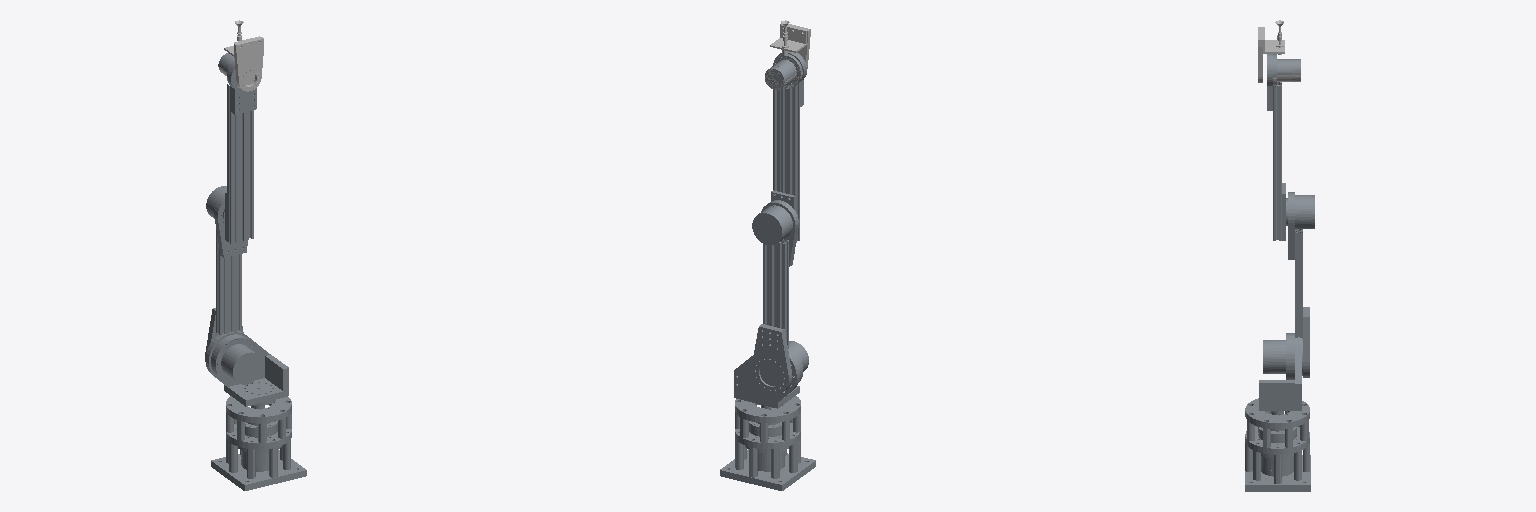
URDF robot description (Серебристый_робот_сборка_февраль_2026_Z_вверх_4-Оси_Петров.SLDAS):
<?xml version="1.0" encoding="utf-8"?>
<robot
  name="Серебристый_робот_сборка_февраль_2026_Z_вверх_4-Оси_Петров.SLDASM">
  <link
    name="base_link">
    <visual>
      <origin
        xyz="0 0 0"
        rpy="0 0 0" />
      <geometry>
        <mesh
          filename="meshes_4/base_link.STL" />
      </geometry>
      <material
        name="">
        <color
          rgba="0.56863 0.59608 0.62353 1" />
      </material>
    </visual>
  </link>
  <link
    name="Axis_1_Link">
    <visual>
      <origin
        xyz="0 0 0"
        rpy="0 0 0" />
      <geometry>
        <mesh
          filename="meshes_4/Axis_1_Link.STL" />
      </geometry>
      <material
        name="">
        <color
          rgba="0.56863 0.59608 0.62353 1" />
      </material>
    </visual>
  </link>
  <joint
    name="Axis_1_Joint"
    type="revolute">
    <origin
      xyz="0 0 0.052"
      rpy="0 0 0" />
    <parent
      link="base_link" />
    <child
      link="Axis_1_Link" />
    <axis
      xyz="0 0 1" />
    <limit
      lower="-3.1415"
      upper="3.1415"
      effort="0"
      velocity="0" />
  </joint>
  <link
    name="Axis_2_Link">
    <visual>
      <origin
        xyz="0 0 0"
        rpy="0 0 0" />
      <geometry>
        <mesh
          filename="meshes_4/Axis_2_Link.STL" />
      </geometry>
      <material
        name="">
        <color
          rgba="0.56863 0.59608 0.62353 1" />
      </material>
    </visual>
  </link>
  <joint
    name="Axis_2_Joint"
    type="revolute">
    <origin
      xyz="-0.049003 -0.0005 0.234"
      rpy="0 0 0" />
    <parent
      link="Axis_1_Link" />
    <child
      link="Axis_2_Link" />
    <axis
      xyz="0 -1 0" />
    <limit
      lower="-0.785398"
      upper="0.785398"
      effort="0"
      velocity="0" />
  </joint>
  <link
    name="Axis_3_Link">
    <visual>
      <origin
        xyz="0 0 0.1"
        rpy="0 0 0" />
      <geometry>
        <mesh
          filename="meshes_4/Axis_3_Link.STL" />
      </geometry>
      <material
        name="">
        <color
          rgba="0.56863 0.59608 0.62353 1" />
      </material>
    </visual>
  </link>
  <joint
    name="Axis_3_Joint"
    type="revolute">
    <origin
      xyz="0.0 0.105 0.372"
      rpy="0 0 0" />
    <parent
      link="Axis_2_Link" />
    <child
      link="Axis_3_Link" />
     <axis
      xyz="0 -1 0" />
    <limit
      lower="-2.3355"
      upper="2.3355"
      effort="0"
      velocity="0" />
  </joint>
  <link
    name="Axis_4_Link">
    <visual>
      <origin
        xyz="0 0 0.055"
        rpy="0 0 0" />
      <geometry>
        <mesh
          filename="meshes_4/Axis_4_Link.STL" />
      </geometry>
      <material
        name="">
        <color
          rgba="0.75294 0.75294 0.75294 1" />
      </material>
    </visual>
  </link>
  <joint
    name="Axis_4_Joint"
    type="revolute">
    <origin
      xyz="0 -0.11325 0.365"
      rpy="0 0 0" />
    <parent
      link="Axis_3_Link" />
    <child
      link="Axis_4_Link" />
    <axis
      xyz="0 -1 0" />
    <limit
      lower="-1.9188"
      upper="1.9188"
      effort="0"
      velocity="0" />
  </joint>
  <joint
    name="fixed_joint"
    type="fixed">
    <origin
      xyz="0 0 0.124"
      rpy="0 0 0" />
    <parent
      link="Axis_4_Link" />
    <child
      link="end_link" />
  </joint>
  <link
    name="end_link">
  </link>
</robot>

--- What the picture shows (computed from the rendered views, not written in the file) ---
Views: 3 orthographic renders of the robot side by side, from view 1: azimuth 30°, elevation 25°; view 2: azimuth 150°, elevation 25°; view 3: azimuth 270°, elevation 25°.
Robot: Серебристый_робот_сборка_февраль_2026_Z_вверх_4-Оси_Петров.SLDAS — 6 links, 5 joints (4 revolute, 1 fixed); root link base_link; default pose: every joint at zero.
Visible links, largest first — view 1: base_link, Axis_3_Link, Axis_1_Link, Axis_2_Link, Axis_4_Link; view 2: Axis_2_Link, base_link, Axis_3_Link, Axis_1_Link, Axis_4_Link; view 3: base_link, Axis_1_Link, Axis_2_Link, Axis_3_Link, Axis_4_Link.
Boxes of the visible links, x1,y1,x2,y2 form: base_link: (211, 396, 306, 490); Axis_3_Link: (218, 53, 256, 243); Axis_1_Link: (205, 331, 288, 435); Axis_2_Link: (205, 186, 247, 356); Axis_4_Link: (218, 20, 263, 91); Axis_2_Link: (751, 200, 798, 394); base_link: (720, 396, 815, 490); Axis_3_Link: (765, 51, 806, 242); Axis_1_Link: (734, 341, 808, 434); Axis_4_Link: (765, 20, 810, 89); base_link: (1245, 398, 1310, 491); Axis_1_Link: (1258, 333, 1302, 440); Axis_2_Link: (1288, 192, 1314, 377); Axis_3_Link: (1267, 54, 1300, 240); Axis_4_Link: (1258, 20, 1300, 85).
Size in the robot's own frame: 0.1913 by 0.1655 by 1.15 metres.
Meshes: 5 distinct files referenced, 5 mesh visuals loaded (5 binary STL).
